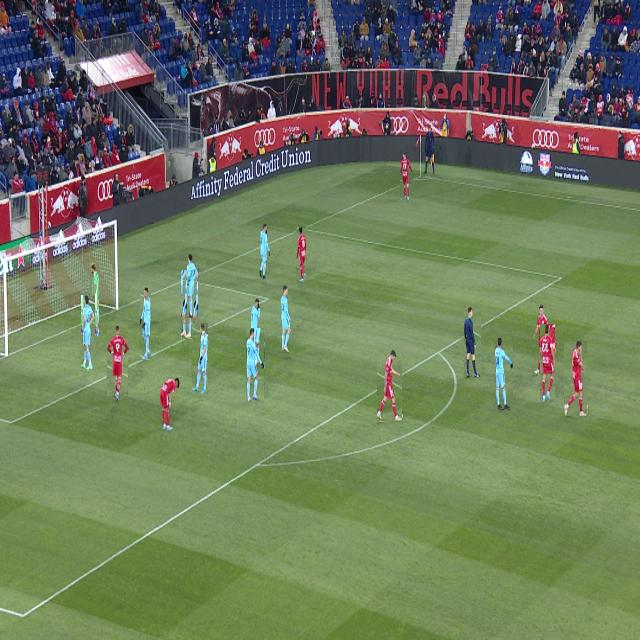goalkeeper: (91, 263, 99, 336)
player: (378, 351, 402, 421), (565, 341, 587, 416), (108, 326, 128, 401), (495, 338, 513, 409), (247, 328, 264, 402), (192, 323, 208, 394), (541, 325, 555, 402), (534, 304, 549, 375), (81, 296, 95, 370), (160, 378, 179, 431), (181, 271, 193, 339), (140, 288, 151, 360), (250, 299, 261, 368), (187, 255, 198, 318), (281, 285, 291, 353), (259, 224, 270, 280), (297, 228, 306, 283), (401, 153, 411, 202)
referee: (464, 307, 481, 377)
